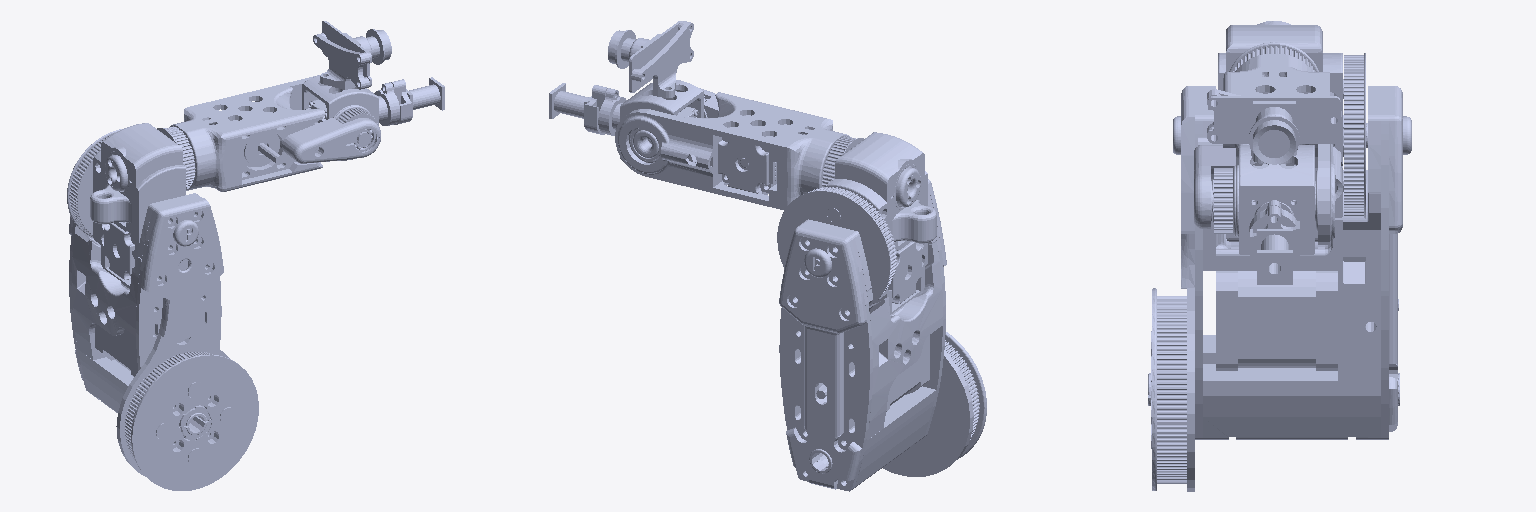
The robot description file, URDF, robot "r6g_steppermotor":
<?xml version="1.0" encoding="utf-8"?>
<!-- This URDF was automatically created by SolidWorks to URDF Exporter! Originally created by [author] ([email redacted]) 
     Commit Version: 1.6.0-1-g15f4949  Build Version: 1.6.7594.29634
     For more information, please see http://wiki.ros.org/sw_urdf_exporter -->
<robot
  name="r6g_steppermotor">
  <link
    name="Base">
    <inertial>
      <origin
        xyz="-0.0639088002397266 -2.2692272705703E-05 0.0340525644504499"
        rpy="0 0 0" />
      <mass
        value="0.709351460903428" />
      <inertia
        ixx="0.000573861632797521"
        ixy="-2.6801248876735E-07"
        ixz="3.05395942409336E-06"
        iyy="0.00121003362652614"
        iyz="-9.31526634937716E-08"
        izz="0.00166587876176935" />
    </inertial>
    <visual>
      <origin
        xyz="0 0 0"
        rpy="0 0 0" />
      <geometry>
        <mesh
          filename="package://r6g_steppermotor/meshes/Base.STL" />
      </geometry>
      <material
        name="">
        <color
          rgba="0.792156862745098 0.819607843137255 0.933333333333333 1" />
      </material>
    </visual>
    <collision>
      <origin
        xyz="0 0 0"
        rpy="0 0 0" />
      <geometry>
        <mesh
          filename="package://r6g_steppermotor/meshes/Base.STL" />
      </geometry>
    </collision>
  </link>
  <link
    name="Eslabon1">
    <inertial>
      <origin
        xyz="-0.00540306502255795 0.000833388687623213 -0.0527634582724991"
        rpy="0 0 0" />
      <mass
        value="0.903539346376096" />
      <inertia
        ixx="0.00093885655579188"
        ixy="-0.000178519910455735"
        ixz="1.60652619848817E-05"
        iyy="0.00103951823836823"
        iyz="-1.1822820288052E-05"
        izz="0.00143443567145998" />
    </inertial>
    <visual>
      <origin
        xyz="0 0 0"
        rpy="0 0 0" />
      <geometry>
        <mesh
          filename="package://r6g_steppermotor/meshes/Eslabon1.STL" />
      </geometry>
      <material
        name="">
        <color
          rgba="0.792156862745098 0.819607843137255 0.933333333333333 1" />
      </material>
    </visual>
    <collision>
      <origin
        xyz="0 0 0"
        rpy="0 0 0" />
      <geometry>
        <mesh
          filename="package://r6g_steppermotor/meshes/Eslabon1.STL" />
      </geometry>
    </collision>
  </link>
  <joint
    name="Joint1"
    type="revolute">
    <origin
      xyz="0 0 0.1325"
      rpy="0 0 0" />
    <parent
      link="Base" />
    <child
      link="Eslabon1" />
    <axis
      xyz="0 0 1" />
    <limit
      lower="-1.5708"
      upper="1.5708"
      effort="0"
      velocity="0" />
  </joint>
  <link
    name="Eslabon2">
    <inertial>
      <origin
        xyz="0.0334611118738601 -0.000708602789206227 -0.00144308379319205"
        rpy="0 0 0" />
      <mass
        value="0.354767501583128" />
      <inertia
        ixx="0.000148407066546261"
        ixy="-2.01715820849236E-07"
        ixz="1.00917076073645E-05"
        iyy="0.000284624073522746"
        iyz="-1.09349087975605E-06"
        izz="0.000279580543649812" />
    </inertial>
    <visual>
      <origin
        xyz="0 0 0"
        rpy="0 0 0" />
      <geometry>
        <mesh
          filename="package://r6g_steppermotor/meshes/Eslabon2.STL" />
      </geometry>
      <material
        name="">
        <color
          rgba="0.792156862745098 0.819607843137255 0.933333333333333 1" />
      </material>
    </visual>
    <collision>
      <origin
        xyz="0 0 0"
        rpy="0 0 0" />
      <geometry>
        <mesh
          filename="package://r6g_steppermotor/meshes/Eslabon2.STL" />
      </geometry>
    </collision>
  </link>
  <joint
    name="Joint2"
    type="revolute">
    <origin
      xyz="0.047 0 0"
      rpy="-1.5708 -1.5708 0" />
    <parent
      link="Eslabon1" />
    <child
      link="Eslabon2" />
    <axis
      xyz="0 0 -1" />
    <limit
      lower="-1.04719755"
      upper="1.74532925"
      effort="0"
      velocity="0" />
  </joint>
  <link
    name="Eslabon3">
    <inertial>
      <origin
        xyz="0.000220041469300214 -0.00519449814249906 0.0080044229227097"
        rpy="0 0 0" />
      <mass
        value="0.127349139724555" />
      <inertia
        ixx="3.64889212812768E-05"
        ixy="9.64569415331806E-07"
        ixz="1.67830136898544E-06"
        iyy="6.67610066218378E-05"
        iyz="-5.23892931237426E-07"
        izz="6.00622889155128E-05" />
    </inertial>
    <visual>
      <origin
        xyz="0 0 0"
        rpy="0 0 0" />
      <geometry>
        <mesh
          filename="package://r6g_steppermotor/meshes/Eslabon3.STL" />
      </geometry>
      <material
        name="">
        <color
          rgba="0.792156862745098 0.819607843137255 0.933333333333333 1" />
      </material>
    </visual>
    <collision>
      <origin
        xyz="0 0 0"
        rpy="0 0 0" />
      <geometry>
        <mesh
          filename="package://r6g_steppermotor/meshes/Eslabon3.STL" />
      </geometry>
    </collision>
  </link>
  <joint
    name="Joint3"
    type="revolute">
    <origin
      xyz="0.11 0 0"
      rpy="0 0 0" />
    <parent
      link="Eslabon2" />
    <child
      link="Eslabon3" />
    <axis
      xyz="0 0 -1" />
    <limit
      lower="-1.22173048"
      upper="1.04719755"
      effort="0"
      velocity="0" />
  </joint>
  <link
    name="Eslabon4">
    <inertial>
      <origin
        xyz="-5.45364462963827E-05 -0.000300913150659561 0.0569415515809231"
        rpy="0 0 0" />
      <mass
        value="0.105427595309454" />
      <inertia
        ixx="8.02608855278048E-05"
        ixy="-1.76928900289979E-09"
        ixz="-5.24357128303017E-08"
        iyy="7.73004016398822E-05"
        iyz="7.65808682113006E-06"
        izz="2.20976734952738E-05" />
    </inertial>
    <visual>
      <origin
        xyz="0 0 0"
        rpy="0 0 0" />
      <geometry>
        <mesh
          filename="package://r6g_steppermotor/meshes/Eslabon4.STL" />
      </geometry>
      <material
        name="">
        <color
          rgba="0.792156862745098 0.819607843137255 0.933333333333333 1" />
      </material>
    </visual>
    <collision>
      <origin
        xyz="0 0 0"
        rpy="0 0 0" />
      <geometry>
        <mesh
          filename="package://r6g_steppermotor/meshes/Eslabon4.STL" />
      </geometry>
    </collision>
  </link>
  <joint
    name="Joint4"
    type="revolute">
    <origin
      xyz="0.026048 0 -5E-05"
      rpy="-1.5708 0 0" />
    <parent
      link="Eslabon3" />
    <child
      link="Eslabon4" />
    <axis
      xyz="0 0 -1" />
    <limit
      lower="-1.22173048"
      upper="1.22173048"
      effort="0"
      velocity="0" />
  </joint>
  <link
    name="Eslabon5">
    <inertial>
      <origin
        xyz="0.00859485928851123 0.0040243306553672 -0.00249460060451457"
        rpy="0 0 0" />
      <mass
        value="0.0379001161241005" />
      <inertia
        ixx="6.57533516443806E-06"
        ixy="3.56937863268998E-08"
        ixz="2.17780808246715E-08"
        iyy="6.89129399718228E-06"
        iyz="-1.16628285361323E-07"
        izz="5.24238854439529E-06" />
    </inertial>
    <visual>
      <origin
        xyz="0 0 0"
        rpy="0 0 0" />
      <geometry>
        <mesh
          filename="package://r6g_steppermotor/meshes/Eslabon5.STL" />
      </geometry>
      <material
        name="">
        <color
          rgba="0.792156862745098 0.819607843137255 0.933333333333333 1" />
      </material>
    </visual>
    <collision>
      <origin
        xyz="0 0 0"
        rpy="0 0 0" />
      <geometry>
        <mesh
          filename="package://r6g_steppermotor/meshes/Eslabon5.STL" />
      </geometry>
    </collision>
  </link>
  <joint
    name="Joint5"
    type="revolute">
    <origin
      xyz="-4.7986E-05 -5E-05 0.1165"
      rpy="1.5708 0 0" />
    <parent
      link="Eslabon4" />
    <child
      link="Eslabon5" />
    <axis
      xyz="0 0 1" />
    <limit
      lower="-0.34906585"
      upper="1.74532925"
      effort="0"
      velocity="0" />
  </joint>
  <link
    name="Eslabon6">
    <inertial>
      <origin
        xyz="0.000432117368158402 -3.58325823099914E-05 -0.0249179979608894"
        rpy="0 0 0" />
      <mass
        value="0.00676940477338509" />
      <inertia
        ixx="2.95037075929751E-07"
        ixy="2.41017072110121E-09"
        ixz="-6.26490425350559E-09"
        iyy="3.18492013544316E-07"
        iyz="-4.88370120749193E-11"
        izz="2.93516892422138E-07" />
    </inertial>
    <visual>
      <origin
        xyz="0 0 0"
        rpy="0 0 0" />
      <geometry>
        <mesh
          filename="package://r6g_steppermotor/meshes/Eslabon6.STL" />
      </geometry>
      <material
        name="">
        <color
          rgba="0.792156862745098 0.819607843137255 0.933333333333333 1" />
      </material>
    </visual>
    <collision>
      <origin
        xyz="0 0 0"
        rpy="0 0 0" />
      <geometry>
        <mesh
          filename="package://r6g_steppermotor/meshes/Eslabon6.STL" />
      </geometry>
    </collision>
  </link>
  <joint
    name="Joint6"
    type="revolute">
    <origin
      xyz="0.00055081 0.064 0.00019939"
      rpy="1.5708 0 -3.1416" />
    <parent
      link="Eslabon5" />
    <child
      link="Eslabon6" />
    <axis
      xyz="0 0 -1" />
    <limit
      lower="-3.14159265"
      upper="3.14159265"
      effort="0"
      velocity="0" />
  </joint>
</robot>

--- Render facts (derived) ---
The picture shows the robot from 3 angles, left to right: view 1: azimuth 30°, elevation 25°; view 2: azimuth 150°, elevation 25°; view 3: azimuth 270°, elevation 25°; orthographic projection.
Model r6g_steppermotor with 7 links and 6 joints (6 revolute), rooted at Base, posed all joints at 0.
Links seen in each view (by area): view 1: Eslabon2, Eslabon4, Eslabon3, Eslabon5, Eslabon6; view 2: Eslabon2, Eslabon4, Eslabon3, Eslabon5, Eslabon6; view 3: Eslabon2, Eslabon5, Eslabon4, Eslabon3, Eslabon6.
Boxes of the visible links, x1=… form: Eslabon2: x1=69, y1=193, x2=258, y2=490; Eslabon4: x1=157, y1=75, x2=380, y2=191; Eslabon3: x1=67, y1=123, x2=185, y2=287; Eslabon5: x1=302, y1=21, x2=391, y2=160; Eslabon6: x1=374, y1=77, x2=444, y2=125; Eslabon2: x1=779, y1=179, x2=986, y2=491; Eslabon4: x1=615, y1=88, x2=863, y2=210; Eslabon3: x1=777, y1=132, x2=936, y2=314; Eslabon5: x1=608, y1=21, x2=707, y2=161; Eslabon6: x1=549, y1=83, x2=626, y2=135; Eslabon2: x1=1148, y1=86, x2=1411, y2=491; Eslabon5: x1=1207, y1=89, x2=1341, y2=254; Eslabon4: x1=1194, y1=42, x2=1342, y2=244; Eslabon3: x1=1218, y1=21, x2=1367, y2=241; Eslabon6: x1=1249, y1=200, x2=1299, y2=284.
Bounding box of the posed robot: 0.2205 × 0.1033 × 0.2243 m (x, y, z).
5 mesh visuals loaded from 7 distinct referenced files (5 binary STL); not drawn: 2 (reference not matched to a file when rendering).